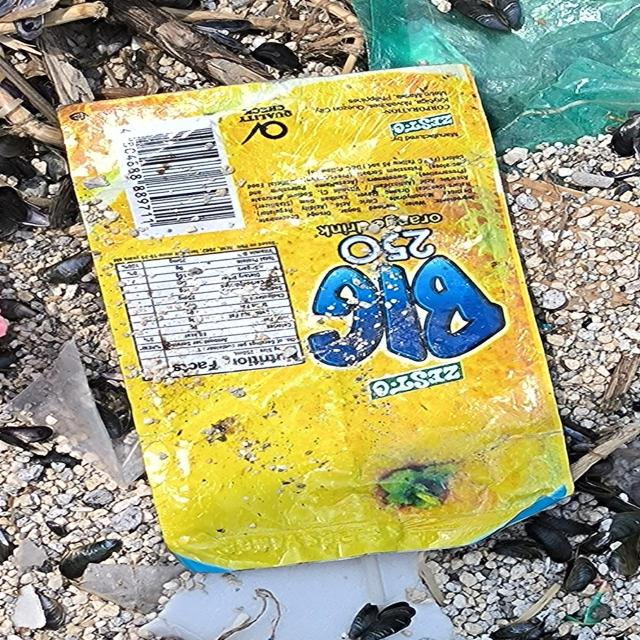plastic_waste: (53, 60, 580, 576)
